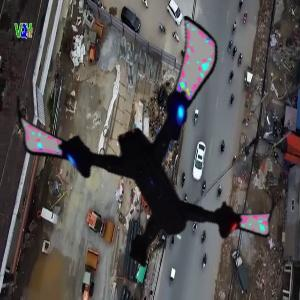drone: (18, 35, 263, 280)
